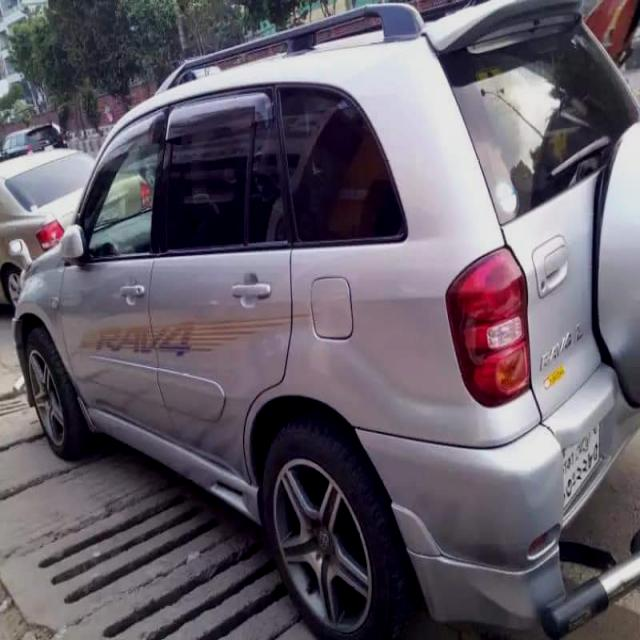black: (0, 108, 77, 153)
silver: (28, 21, 639, 640), (0, 147, 101, 315)
